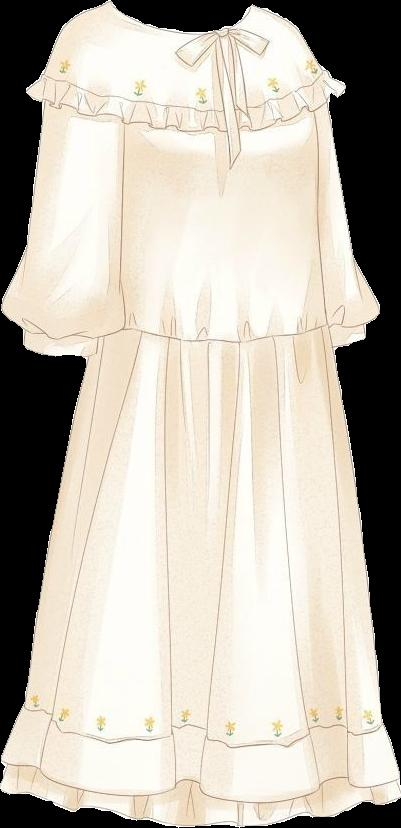Bodice: (26, 0, 344, 345)
Hemline: (0, 750, 400, 806), (0, 782, 400, 827)
Neckline: (106, 0, 257, 39)
Skirt: (0, 326, 400, 825)
Sleeve: (1, 102, 121, 358)
Sleeveline: (41, 102, 123, 135)
Waistline: (26, 86, 346, 136), (114, 318, 330, 349)
